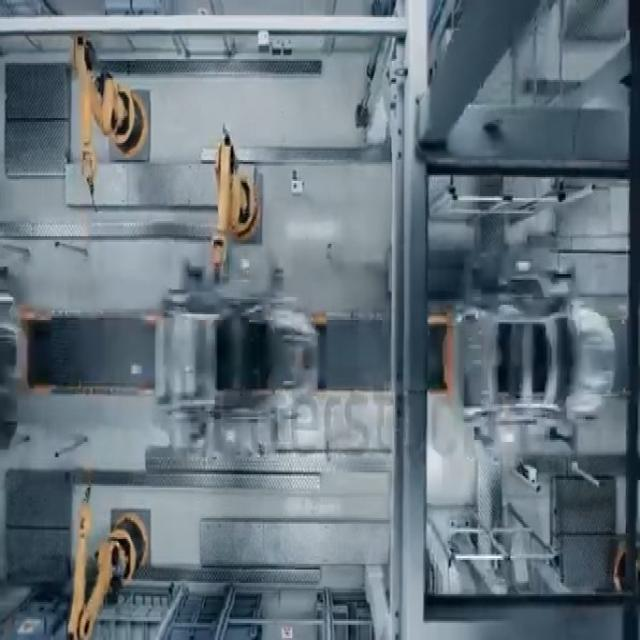auto: (147, 288, 332, 456), (445, 273, 620, 433)
robot: (57, 29, 172, 191)
